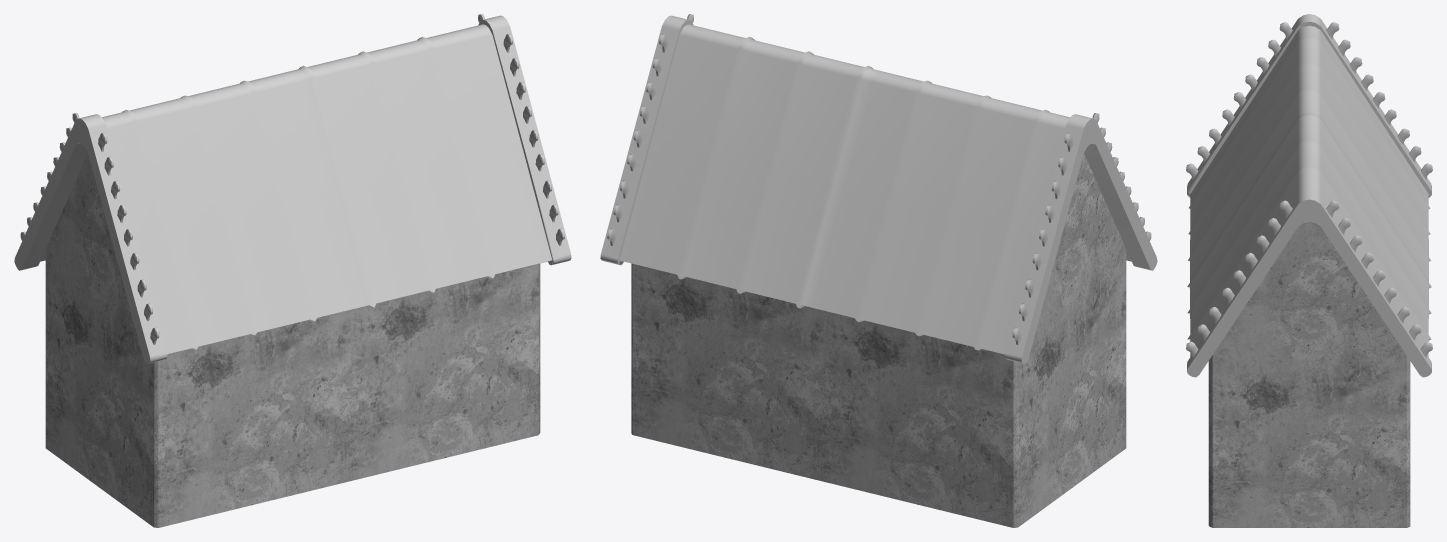
The model's file is SM_ButtressPier_03a.fbx.
3 views of the same model, side by side, from view 1: azimuth 30°, elevation 25°; view 2: azimuth 150°, elevation 25°; view 3: azimuth 270°, elevation 25° (orthographic). The views are drawn at different scales.
Parts seen in each view (by area): view 1: SM_ButtressPier_03a_LOD0; view 2: SM_ButtressPier_03a_LOD0; view 3: SM_ButtressPier_03a_LOD0.
Boxes of the visible parts, bbox=[...] form: SM_ButtressPier_03a_LOD0: bbox=[14, 14, 571, 527]; SM_ButtressPier_03a_LOD0: bbox=[600, 14, 1157, 527]; SM_ButtressPier_03a_LOD0: bbox=[1186, 14, 1432, 527].
Bounding box in the file's own units: 872 × 490 × 736.
